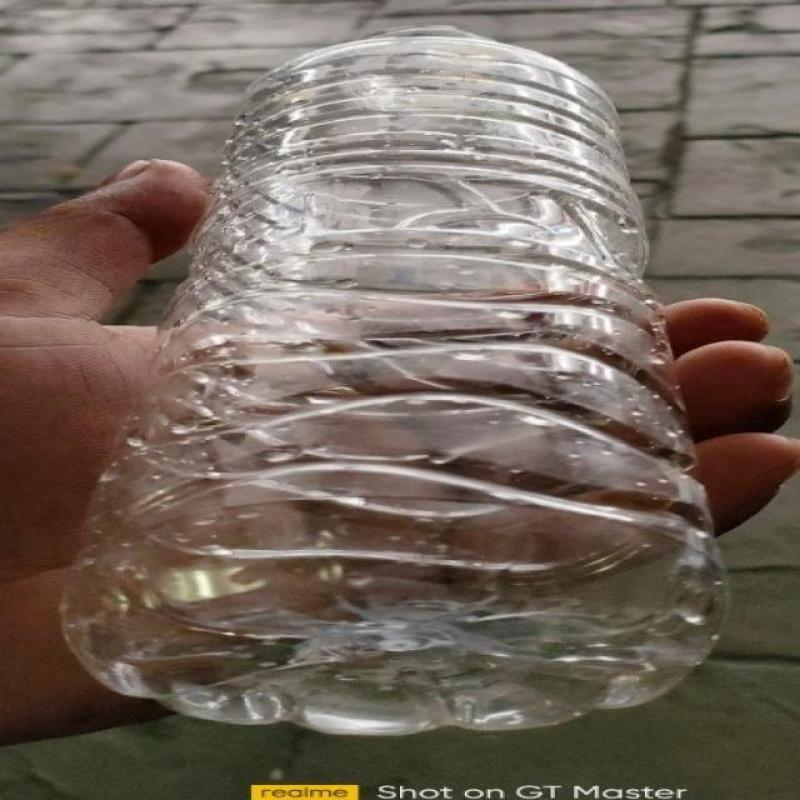botella: (71, 23, 730, 736)
